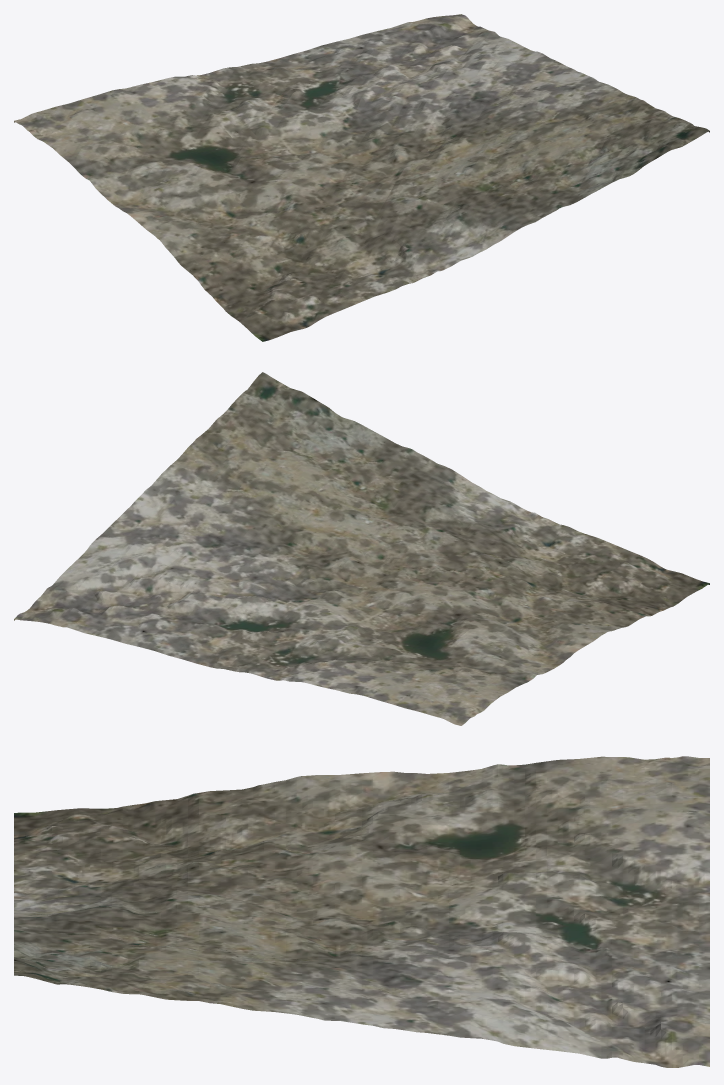
3 views of the same model, one above another, from view 1: azimuth 30°, elevation 25°; view 2: azimuth 150°, elevation 25°; view 3: azimuth 270°, elevation 25° (orthographic). The views are drawn at different scales.
Size of the model in its own units: 250 by 55.5 by 241.
1 material, 1 textured.
